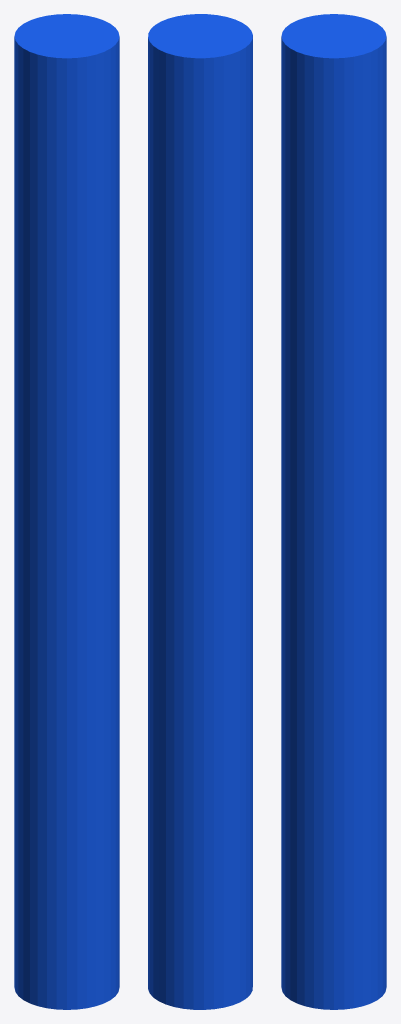
Rendered from lazer.obj.
3 renders of one model, left to right at view 1: azimuth 90°, elevation 25°; view 2: azimuth 150°, elevation 25°; view 3: azimuth 270°, elevation 25°, orthographic.
Visible parts, largest first — view 1: Cylinder; view 2: Cylinder; view 3: Cylinder.
Boxes of the visible parts, x1,y1,x2,y2 form: Cylinder: (14, 14, 119, 1009); Cylinder: (148, 14, 252, 1009); Cylinder: (281, 14, 386, 1009).
Size of the model in its own units: 0.2 by 2 by 0.2.
1 material, 1 textured.
